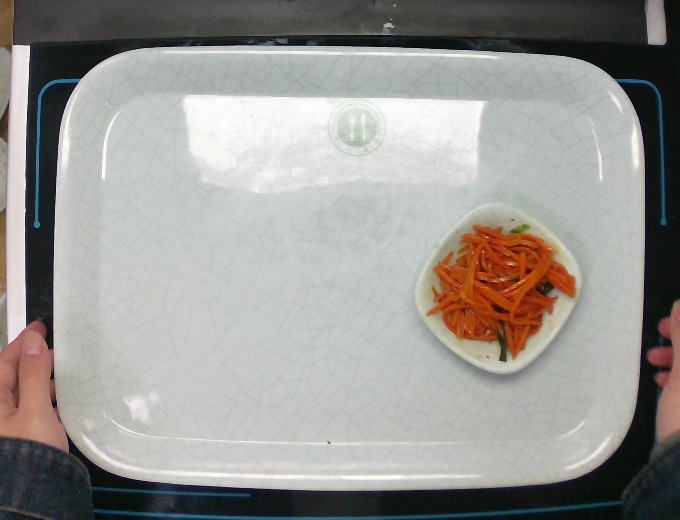JYsf-Si_Fang_Die: (411, 200, 585, 377)
